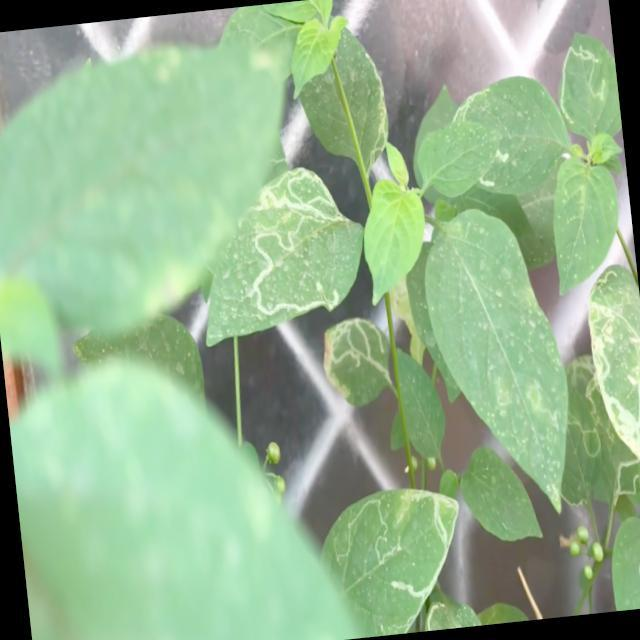Tomato healthy leaf: (356, 170, 434, 303)
Tomato target spot leaf: (188, 158, 374, 346), (313, 478, 471, 640), (446, 68, 574, 200), (292, 24, 394, 183), (582, 260, 640, 471), (563, 348, 640, 504), (548, 356, 606, 508), (551, 25, 622, 142), (318, 312, 396, 412), (418, 590, 479, 631)
